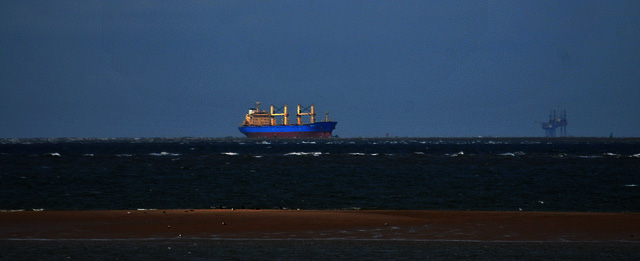bulk carrier: (235, 100, 333, 137)
